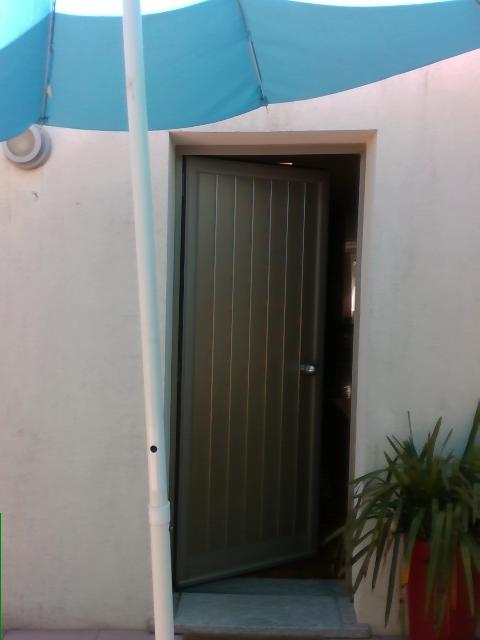semi_door: (168, 129, 369, 603)
